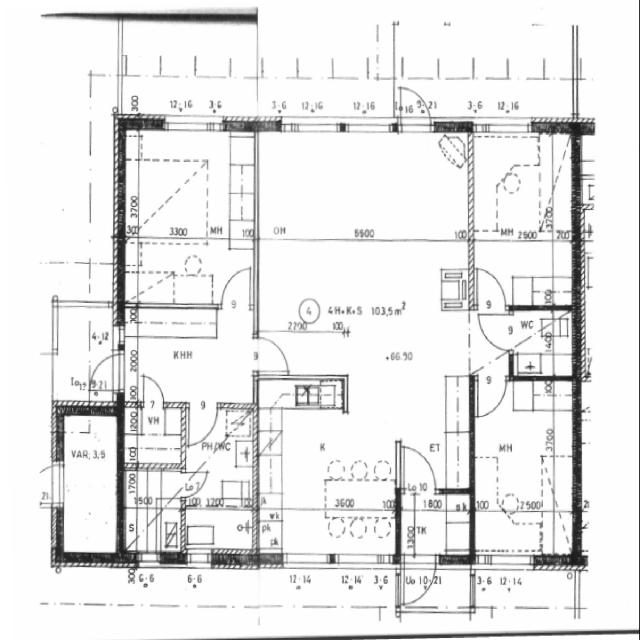door: (54, 304, 120, 404), (396, 441, 439, 492), (399, 555, 437, 606), (253, 332, 293, 378), (473, 373, 510, 420), (474, 266, 510, 314), (397, 84, 433, 132), (218, 264, 255, 310), (476, 311, 512, 352), (33, 462, 64, 508), (88, 351, 121, 391), (138, 372, 168, 408), (183, 468, 210, 497)
window: (160, 113, 224, 135), (279, 116, 342, 138), (474, 117, 536, 139), (479, 551, 536, 573), (334, 551, 393, 571), (343, 117, 396, 138), (282, 552, 331, 570), (184, 552, 215, 569), (136, 550, 162, 569), (85, 151, 95, 186), (492, 603, 518, 615)
zone: (258, 236, 465, 376), (256, 126, 473, 245), (260, 390, 401, 560), (123, 126, 259, 286), (470, 130, 574, 310), (472, 378, 577, 534), (125, 307, 258, 404), (60, 410, 120, 560), (52, 302, 119, 407), (508, 308, 576, 377), (472, 566, 578, 608), (182, 503, 256, 562), (126, 405, 188, 468)
